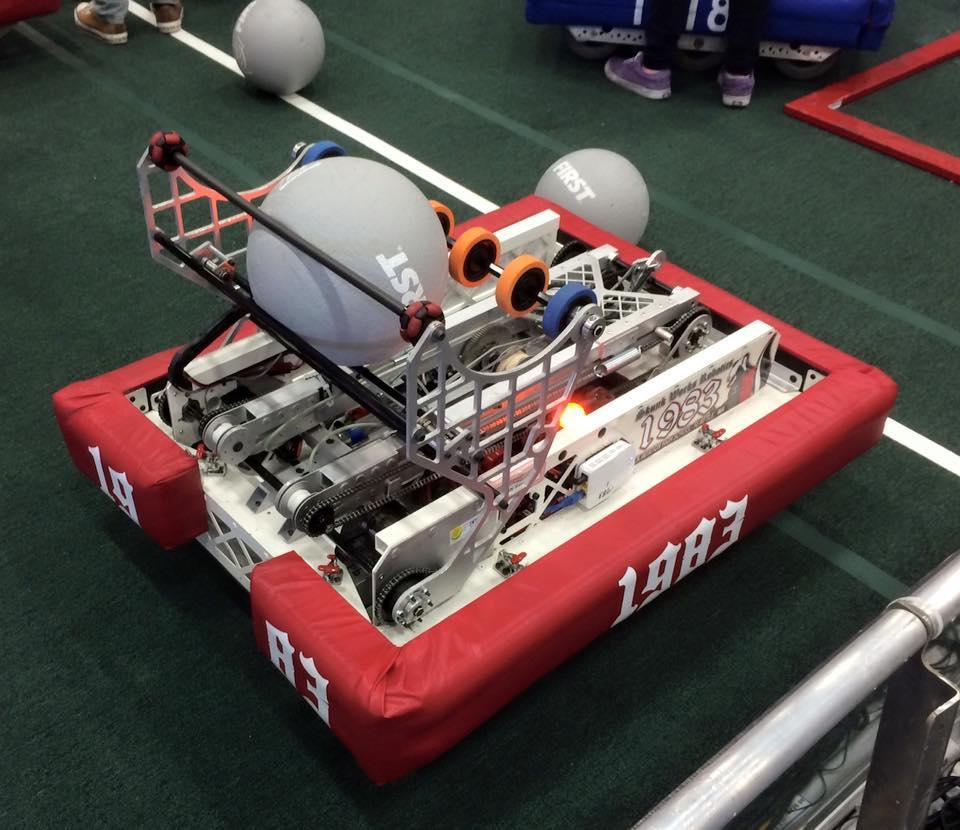robot: (51, 114, 906, 798)
